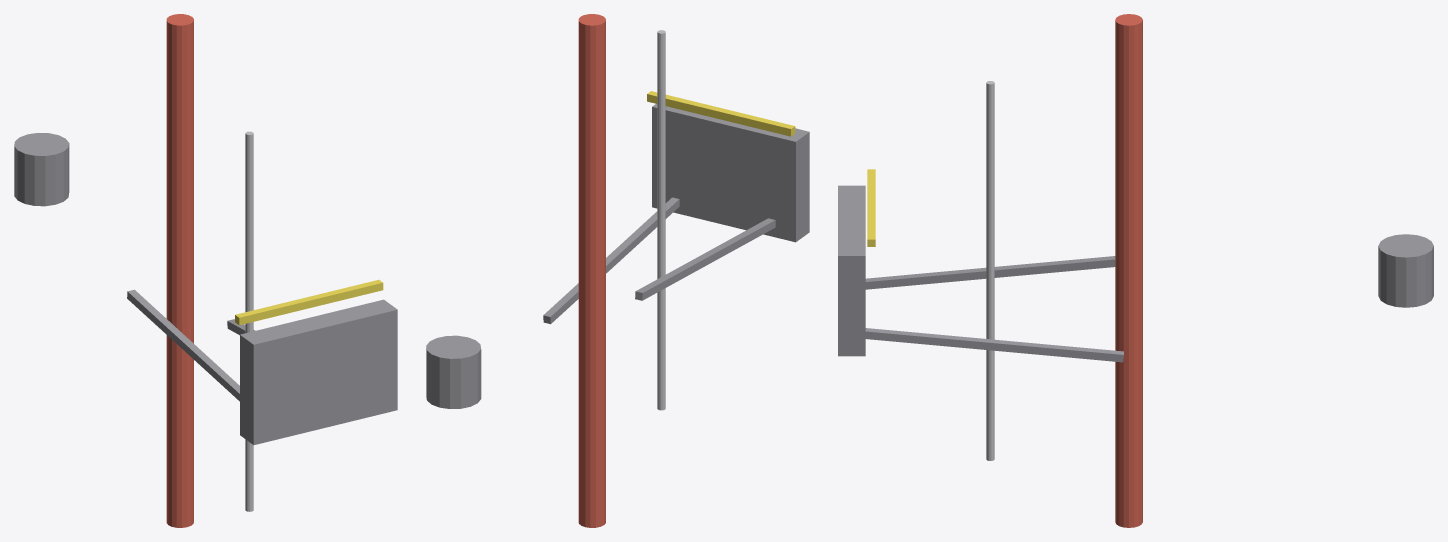
Rendered from drill_rig.glb.
3 views of the same model, side by side, from view 1: azimuth 30°, elevation 25°; view 2: azimuth 150°, elevation 25°; view 3: azimuth 270°, elevation 25° (orthographic).
Parts seen in each view (by area): view 1: Base, Mast, DrillHead, DrillString, Leg_-2, Stripe; view 2: Base, Mast, DrillHead, DrillString, Leg_-2, Stripe, Leg_2; view 3: Mast, Base, DrillHead, DrillString, Leg_2, Leg_-2, Stripe.
Boxes of the visible parts, x1,y1,x2,y2 form: Base: (240, 299, 397, 444); Mast: (166, 14, 193, 527); DrillHead: (14, 133, 69, 206); DrillString: (245, 131, 253, 511); Leg_-2: (127, 289, 239, 401); Stripe: (235, 279, 383, 325); Base: (652, 104, 809, 242); Mast: (578, 14, 605, 527); DrillHead: (426, 335, 481, 408); DrillString: (657, 30, 665, 410); Leg_-2: (635, 218, 775, 300); Stripe: (647, 91, 795, 136); Leg_2: (543, 197, 679, 324); Mast: (1115, 14, 1142, 527); Base: (838, 185, 865, 356); DrillHead: (1378, 234, 1433, 307); DrillString: (986, 81, 994, 460); Leg_2: (865, 328, 1123, 362); Leg_-2: (865, 256, 1115, 289); Stripe: (867, 169, 875, 246).
Size of the model in its own units: 6 by 20 by 21.5.
